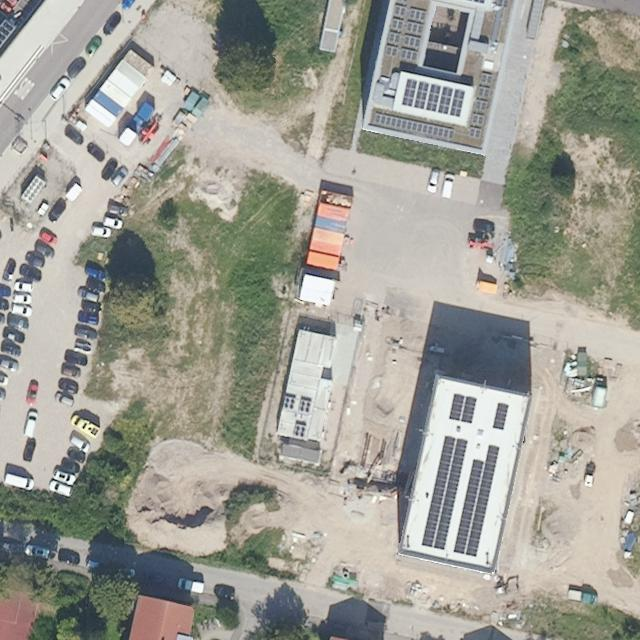PV: (420, 433, 470, 551), (452, 441, 502, 559), (380, 0, 430, 65), (400, 77, 468, 119), (372, 110, 458, 140), (464, 72, 496, 142), (448, 393, 478, 425), (491, 401, 510, 430)
